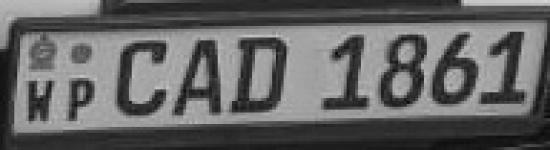1: (316, 30, 374, 116), (478, 26, 532, 109)
6: (430, 28, 481, 108)
8: (375, 30, 430, 114)
A: (171, 34, 226, 120)
C: (112, 36, 172, 119)
D: (227, 32, 290, 119)
P: (61, 75, 102, 128)
W: (24, 76, 59, 126)
